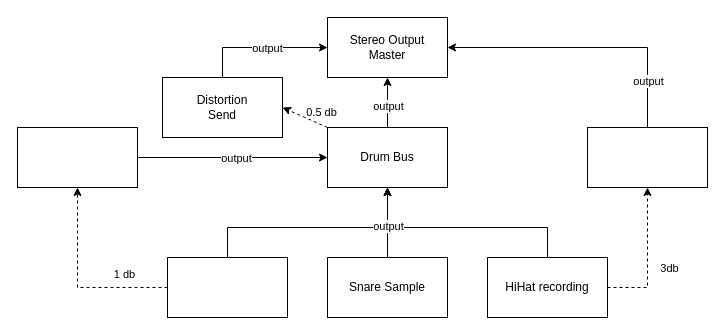
Image size: 725x335. Some labels were removed from this diagram. The shapes that lost their labels are listed below. From the top down, each one's box as (x1, y1, x2, y2) in pixels, then its label:
(16, 126, 138, 188): Compression Send
(586, 126, 708, 188): Reverb Send
(166, 256, 288, 318): Kick (Drummachine Synth)
